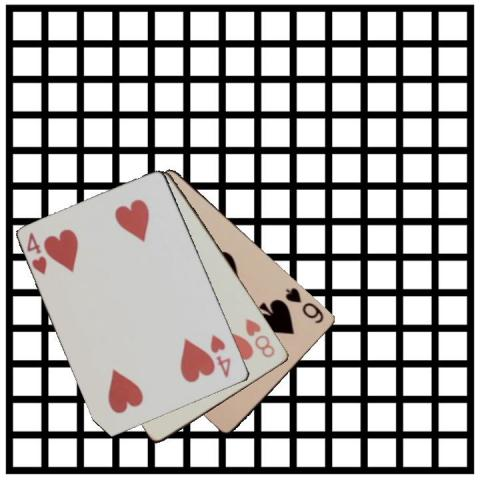4h: (208, 331, 233, 380), (24, 229, 49, 276)
6s: (283, 285, 326, 325)
8h: (243, 315, 276, 359)
